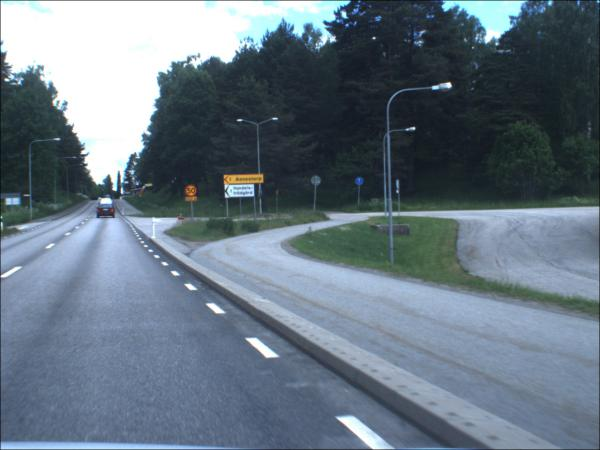50_SIGN: (187, 186, 200, 198)
